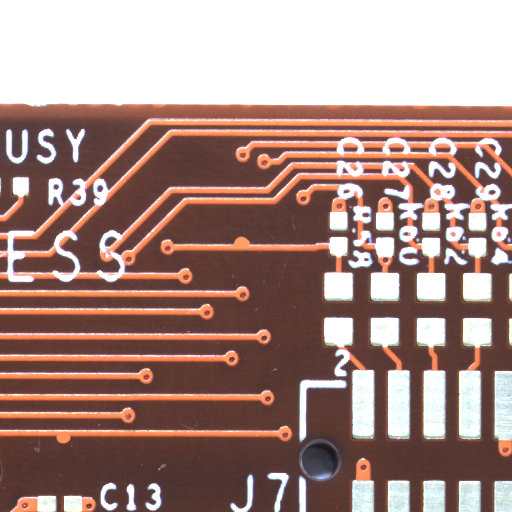Spur: (241, 240, 260, 251), (63, 439, 80, 450)
